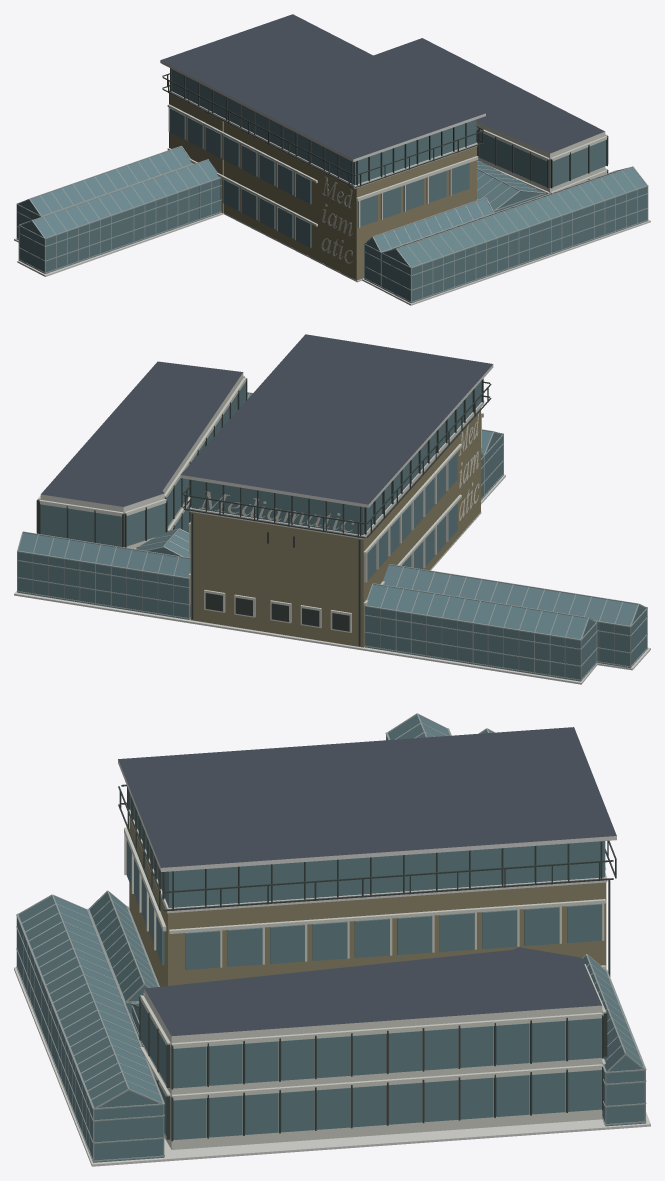
Rendered from mediamatic.glb.
The picture shows the model from 3 angles, top to bottom: view 1: azimuth 30°, elevation 25°; view 2: azimuth 150°, elevation 25°; view 3: azimuth 270°, elevation 25°; orthographic projection. The views are drawn at different scales.
Parts seen in each view (by area): view 1: mediamatic; view 2: mediamatic; view 3: mediamatic.
Part boxes in pixels (left/top/right/bottom): mediamatic: left=14, top=14, right=650, bottom=305; mediamatic: left=14, top=334, right=650, bottom=684; mediamatic: left=14, top=713, right=650, bottom=1166.
Size of the model in its own units: 45.33 by 10.65 by 31.84.
